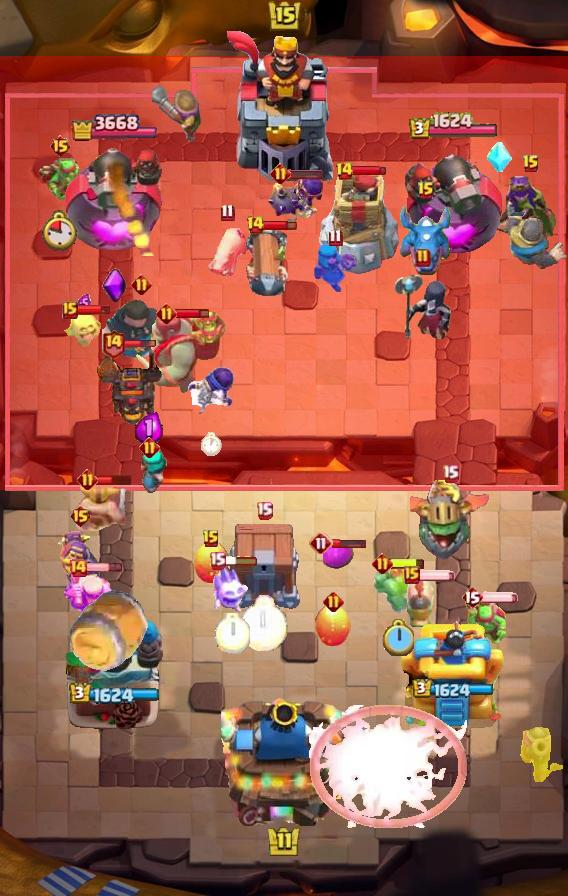bar: (96, 473, 133, 486), (390, 557, 426, 570), (481, 591, 519, 603), (418, 569, 456, 581), (175, 307, 210, 320), (223, 555, 259, 567), (75, 304, 111, 316), (288, 168, 324, 180), (351, 165, 387, 177), (332, 537, 367, 549), (262, 219, 297, 231), (86, 562, 123, 573), (123, 339, 157, 349)
bar-level: (101, 328, 126, 359), (309, 531, 333, 555), (69, 504, 92, 528), (49, 134, 72, 158), (461, 585, 483, 609), (323, 591, 344, 612), (372, 553, 393, 574), (77, 469, 98, 490), (139, 437, 160, 458), (156, 303, 177, 324), (131, 274, 152, 295), (270, 163, 291, 184), (68, 558, 88, 578), (246, 215, 265, 235), (335, 161, 354, 181), (202, 529, 220, 549), (417, 181, 435, 201), (522, 154, 540, 174), (209, 551, 226, 570), (256, 501, 273, 520), (442, 464, 459, 483), (415, 248, 431, 268), (404, 566, 420, 584), (62, 301, 78, 319), (328, 228, 343, 247), (220, 203, 235, 222)
barbarian-evolution: (62, 571, 119, 620)
bomber-evolution: (265, 173, 325, 229), (185, 365, 237, 419)
cannoneer-tower: (64, 601, 164, 731), (64, 138, 165, 256), (403, 138, 503, 256)
clock: (240, 595, 288, 651), (42, 210, 78, 251), (215, 613, 250, 654), (382, 619, 414, 656), (200, 432, 223, 456)
electro-dragon: (397, 203, 455, 277)
elite-barbarian: (76, 482, 128, 532)
elixir: (135, 412, 163, 445), (77, 294, 91, 312)
elixir-golem-small: (323, 539, 355, 569)
evolution-symbol: (102, 267, 128, 303)
golemite: (372, 562, 424, 614)
heal-spirit: (63, 310, 105, 348)
hog: (205, 224, 249, 280)
ice-spirit-evolution: (212, 564, 252, 614)
ice-spirit-evolution-symbol: (487, 142, 513, 174)
king-tower: (223, 31, 345, 181), (221, 690, 347, 826)
knight: (507, 212, 568, 269)
knight-evolution: (58, 530, 102, 598)
musketeer: (152, 85, 204, 143), (518, 726, 568, 782)
night-witch: (393, 271, 453, 343)
phoenix-egg: (313, 604, 353, 648), (191, 541, 231, 585)
queen-tower: (399, 617, 507, 731)
rascal-girl: (312, 243, 358, 295), (129, 447, 169, 495)
royal-hog: (405, 577, 437, 629)
spear-goblin: (462, 598, 510, 648), (38, 158, 82, 202)
tower-bar: (71, 111, 157, 145), (408, 112, 499, 141), (69, 682, 160, 705), (412, 678, 494, 699)
